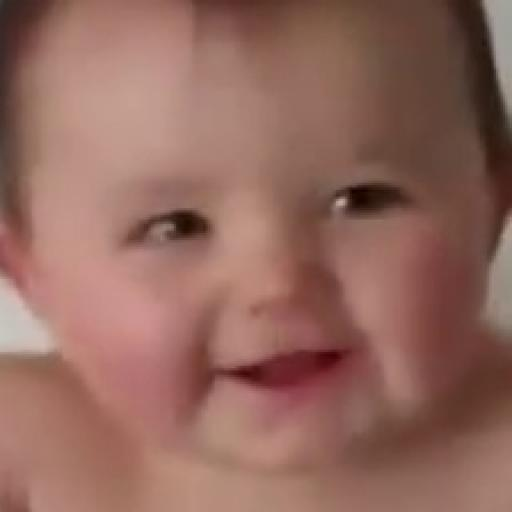Autism: (28, 5, 493, 479)
